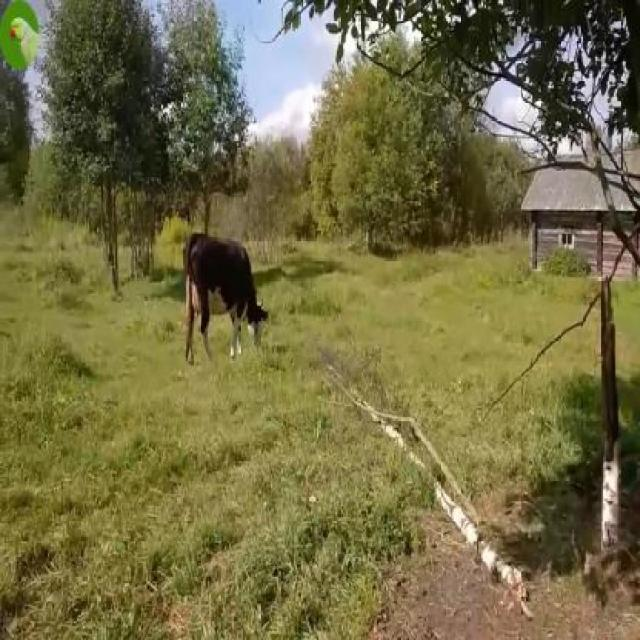Cow: (182, 232, 266, 380)
